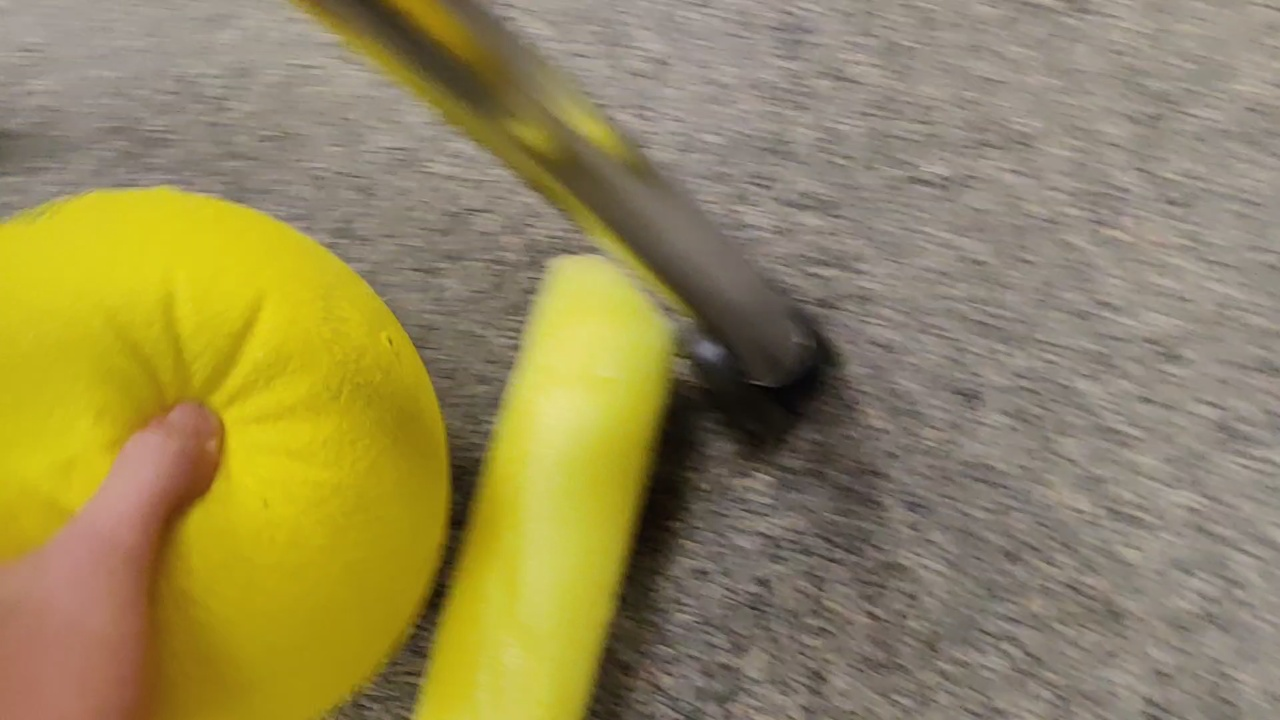Ball: (1, 187, 452, 700)
